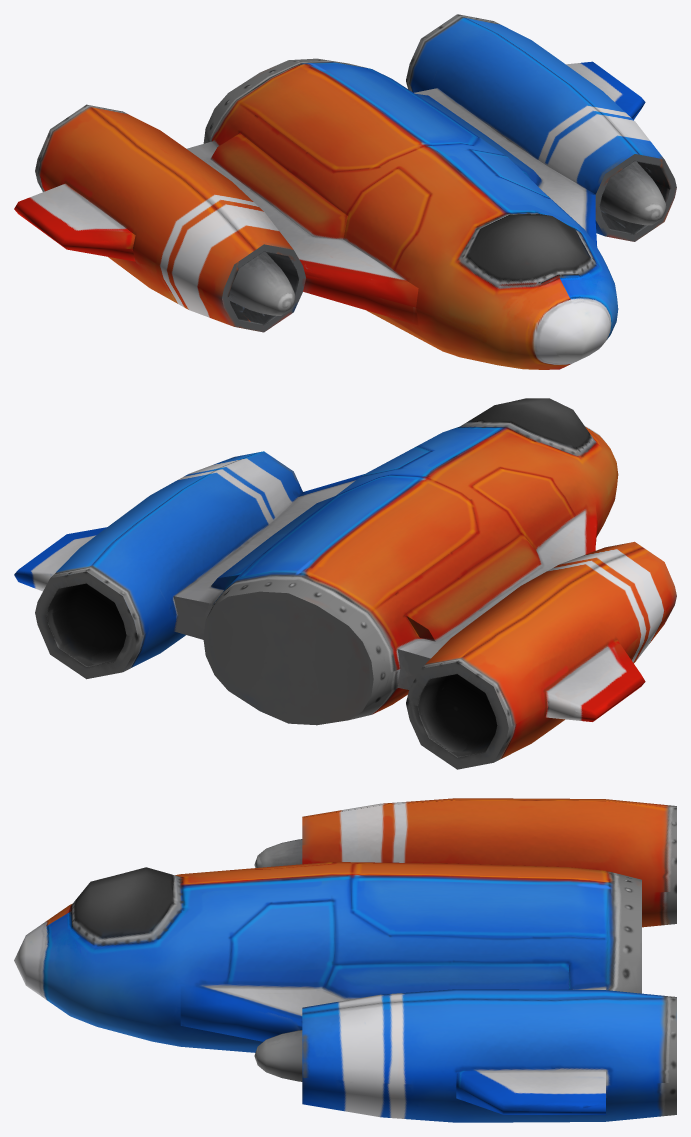
File: sship.fbx
3 views of the same model, one above another, from view 1: azimuth 30°, elevation 25°; view 2: azimuth 150°, elevation 25°; view 3: azimuth 270°, elevation 25° (orthographic). The views are drawn at different scales.
Parts seen in each view (by area): view 1: ship4; view 2: ship4; view 3: ship4.
Part boxes in pixels (left/top/right/bottom): ship4: left=14, top=14, right=676, bottom=369; ship4: left=14, top=398, right=676, bottom=769; ship4: left=14, top=798, right=676, bottom=1122.
Size of the model in its own units: 10 by 2.65 by 9.33.
